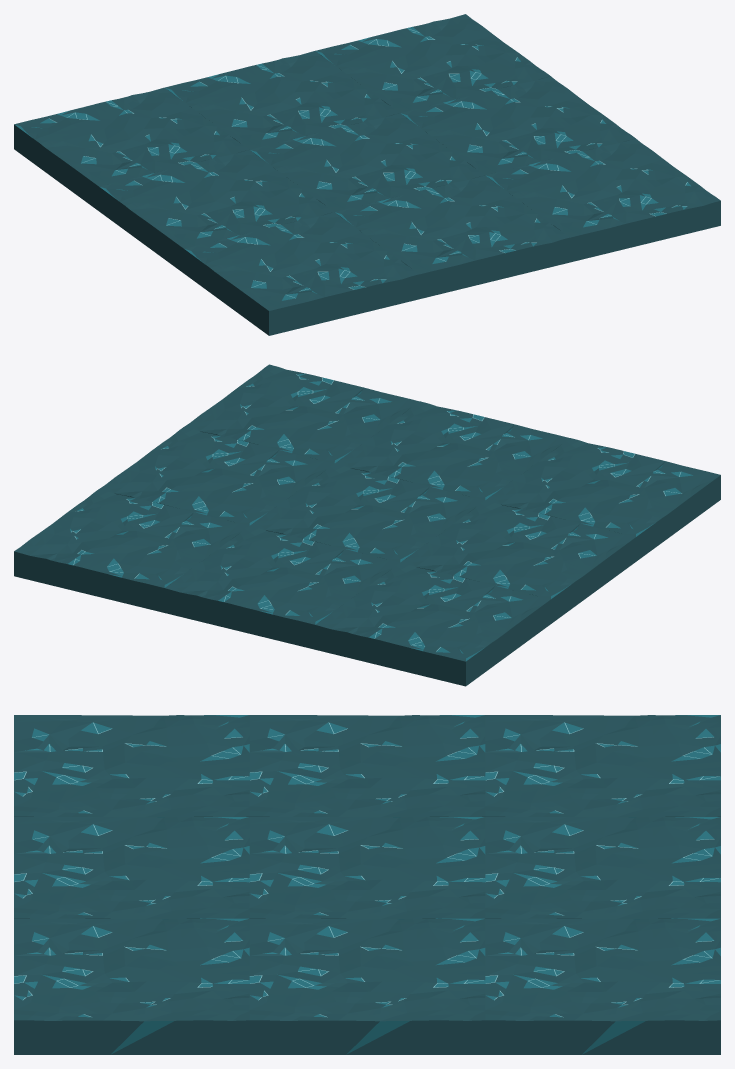
Rendered from SUELO MAYA.fbx.
The picture shows the model from 3 angles, top to bottom: view 1: azimuth 30°, elevation 25°; view 2: azimuth 150°, elevation 25°; view 3: azimuth 270°, elevation 25°; orthographic projection. The views are drawn at different scales.
Visible parts, largest first — view 1: AguaSuelo01; view 2: AguaSuelo01; view 3: AguaSuelo01.
Part boxes in pixels (<box>): AguaSuelo01: <box>14,14,720,335</box>; AguaSuelo01: <box>14,364,720,686</box>; AguaSuelo01: <box>14,715,720,1054</box>.
Size of the model in its own units: 1734 by 94.12 by 1696.
